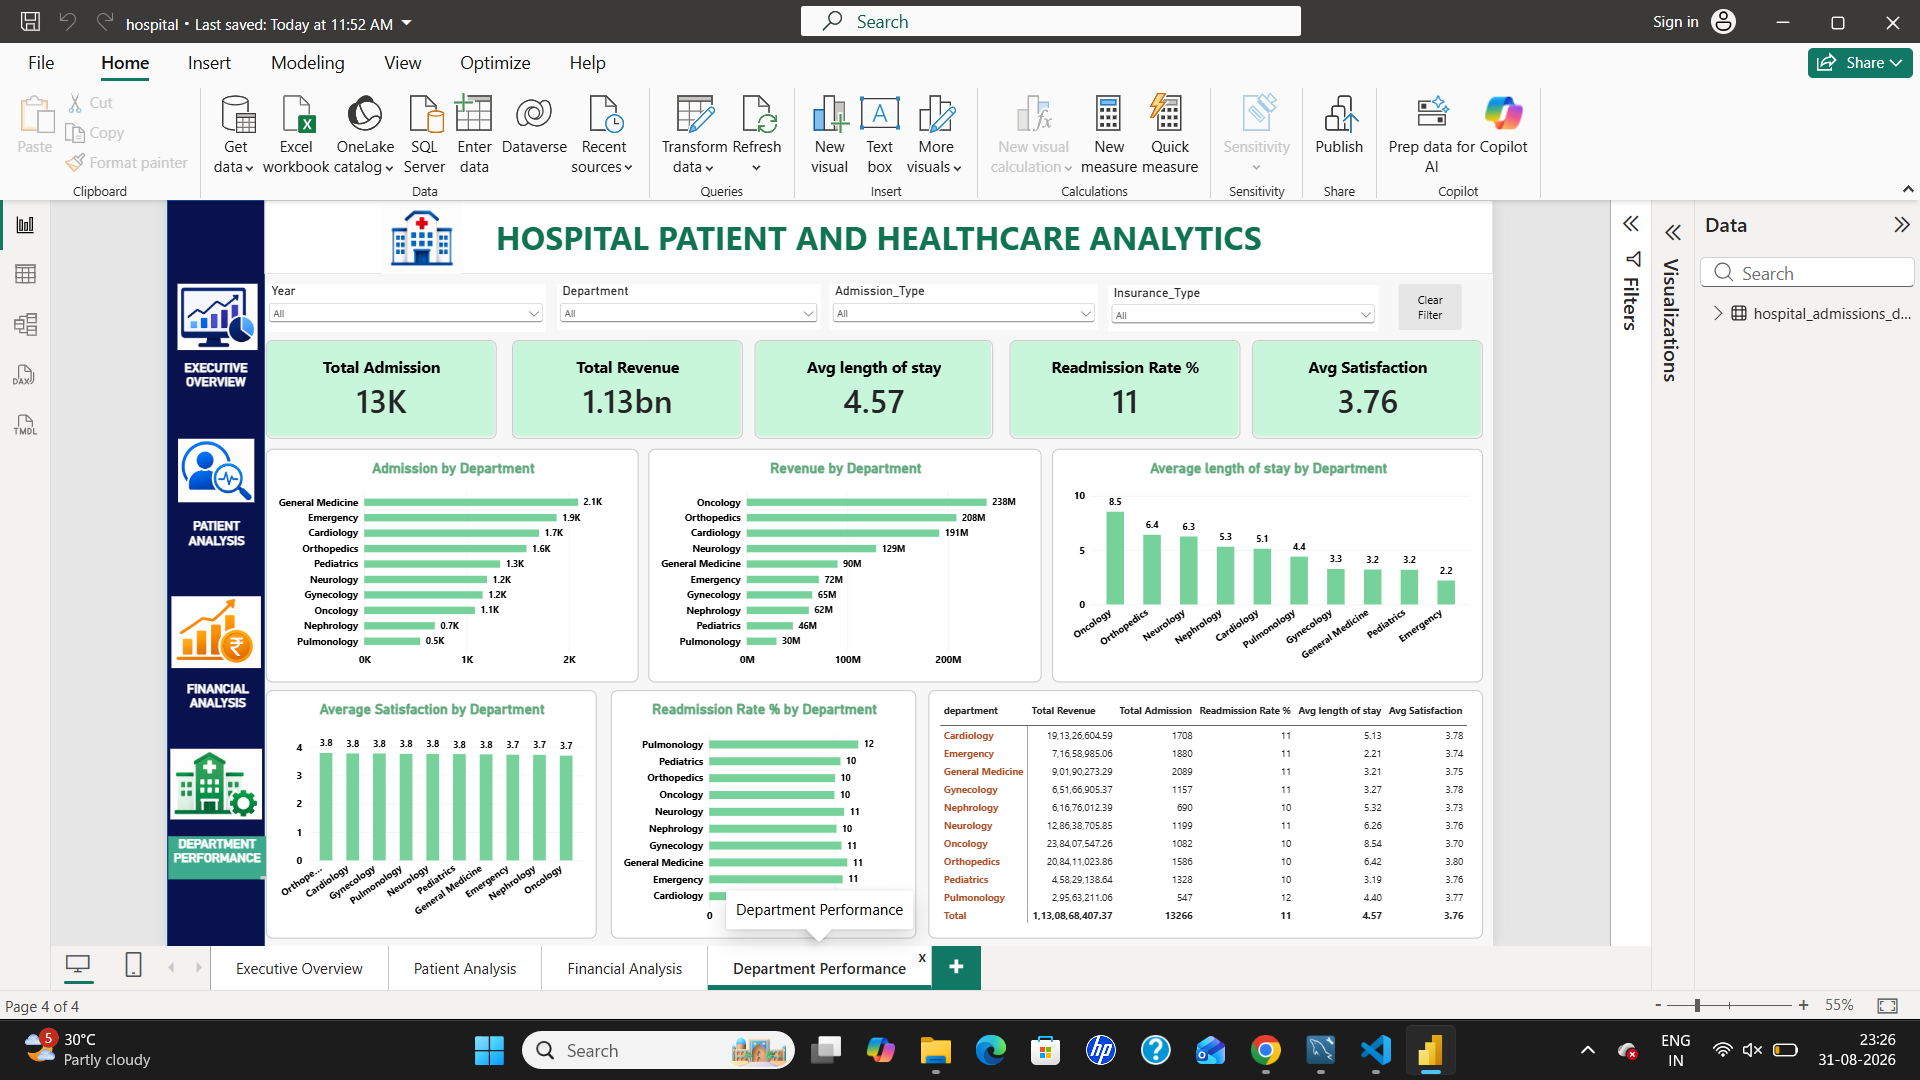

What the dashboard file says about the page in this screenshot:
{"tool":"powerbi","page":{"name":"Department Performance","canvas":[1920,1080],"ordinal":3},"visuals":[{"type":"shape","box":[0,0,141.9,1081],"z":0},{"type":"shape","box":[141.2,0,1778.9,106.8],"z":1000},{"type":"slicer","fields":{"Values":["hospital_admissions_data.admission_date.Variation.Date Hierarchy.Year"]},"box":[142.3,121.2,405.8,69.2],"z":2000},{"type":"slicer","fields":{"Values":["hospital_admissions_data.department"]},"box":[564.6,121.2,381.8,67],"z":3000},{"type":"slicer","fields":{"Values":["hospital_admissions_data.admission_type"]},"box":[959.1,121.2,389.1,67],"z":4000},{"type":"slicer","fields":{"Values":["hospital_admissions_data.insurance_type"]},"box":[1362.7,123.1,390.9,67],"z":5000},{"type":"cardVisual","fields":{"Data":["hospital_admissions_data.Total Admission"]},"box":[143,202.7,334.8,143],"z":6000},{"type":"cardVisual","fields":{"Data":["hospital_admissions_data.Total Revenue"]},"box":[499.5,202.7,334.8,143],"z":7000},{"type":"cardVisual","fields":{"Data":["hospital_admissions_data.Avg length of stay"]},"box":[850.5,202.7,345.6,143],"z":8000},{"type":"cardVisual","fields":{"Data":["hospital_admissions_data.Readmission Rate %"]},"box":[1219.7,202.7,334.8,143],"z":9000},{"type":"cardVisual","fields":{"Data":["hospital_admissions_data.Avg Satisfaction"]},"box":[1570.8,202.7,334.8,143],"z":10000},{"type":"clusteredBarChart","title":" Admission by Department","fields":{"Category":["hospital_admissions_data.department"],"Y":["hospital_admissions_data.Total Admission"]},"box":[142.3,359.6,540.4,338.5],"z":11000},{"type":"clusteredBarChart","title":" Revenue by Department","fields":{"Category":["hospital_admissions_data.department"],"Y":["hospital_admissions_data.Total Revenue"]},"box":[696.2,359.6,569.2,338.5],"z":12000},{"type":"clusteredBarChart","title":"Readmission Rate % by Department","fields":{"Category":["hospital_admissions_data.department"],"Y":["hospital_admissions_data.Readmission Rate %"]},"box":[642.4,709.4,442.3,359.6],"z":13000},{"type":"clusteredColumnChart","title":"Average length of stay by Department","fields":{"Category":["hospital_admissions_data.department"],"Y":["hospital_admissions_data.Avg length of stay"]},"box":[1281.2,360.1,624.3,338.4],"z":14000},{"type":"clusteredColumnChart","title":"Average Satisfaction by Department","fields":{"Category":["hospital_admissions_data.department"],"Y":["hospital_admissions_data.Avg Satisfaction"]},"box":[142.3,709.6,478.8,359.6],"z":15000},{"type":"pivotTable","fields":{"Rows":["hospital_admissions_data.department"],"Values":["hospital_admissions_data.Total Revenue","hospital_admissions_data.Total Admission","hospital_admissions_data.Readmission Rate %","hospital_admissions_data.Avg length of stay","hospital_admissions_data.Avg Satisfaction"]},"box":[1102.1,709.4,803.5,360.1],"z":16000},{"type":"textbox","box":[1057,921,697,159],"z":17000},{"type":"actionButton","box":[1782.5,121.2,92.3,67],"z":18000},{"type":"image","box":[260.6,5.4,217.2,101.3],"z":19000},{"type":"textbox","title":"EXECUTIVE OVERVIEW","box":[0,231.7,141.9,83.5],"z":20000},{"type":"textbox","title":"PATIENT ANALYSIS","box":[0,461.2,144,79.3],"z":21000},{"type":"textbox","title":"FINANCIAL ANALYSIS","box":[2.1,697,144,98.1],"z":22000},{"type":"textbox","title":"DEPARTMENT PERFORMANCE","box":[2.1,920.3,141.9,62.6],"z":23000},{"type":"image","box":[0,121,146.1,96],"z":24000},{"type":"image","box":[0,346.4,141.9,91.8],"z":25000},{"type":"image","box":[0,573.9,141.9,104.3],"z":26000},{"type":"image","box":[0,795.1,141.9,102.3],"z":27000}]}

Visuals, with their boxes on the page's 1920x1080 design canvas (x1, y1, x2, y2). These are canvas units, not pixel positions in the 1920x1080 screenshot, which may show the page scaled, cropped or inside an application window:
shape: 0, 0, 142, 1081
shape: 141, 0, 1920, 107
slicer - hospital_admissions_data.admission_date.Variation.Date Hierarchy.Year: 142, 121, 548, 190
slicer - hospital_admissions_data.department: 565, 121, 946, 188
slicer - hospital_admissions_data.admission_type: 959, 121, 1348, 188
slicer - hospital_admissions_data.insurance_type: 1363, 123, 1754, 190
cardVisual - hospital_admissions_data.Total Admission: 143, 203, 478, 346
cardVisual - hospital_admissions_data.Total Revenue: 500, 203, 834, 346
cardVisual - hospital_admissions_data.Avg length of stay: 850, 203, 1196, 346
cardVisual - hospital_admissions_data.Readmission Rate %: 1220, 203, 1554, 346
cardVisual - hospital_admissions_data.Avg Satisfaction: 1571, 203, 1906, 346
" Admission by Department" clusteredBarChart: 142, 360, 683, 698
" Revenue by Department" clusteredBarChart: 696, 360, 1265, 698
"Readmission Rate % by Department" clusteredBarChart: 642, 709, 1085, 1069
"Average length of stay by Department" clusteredColumnChart: 1281, 360, 1906, 698
"Average Satisfaction by Department" clusteredColumnChart: 142, 710, 621, 1069
pivotTable - hospital_admissions_data.department x hospital_admissions_data.Total Revenue: 1102, 709, 1906, 1070
textbox: 1057, 921, 1754, 1080
actionButton: 1782, 121, 1875, 188
image: 261, 5, 478, 107
"EXECUTIVE OVERVIEW" textbox: 0, 232, 142, 315
"PATIENT ANALYSIS" textbox: 0, 461, 144, 540
"FINANCIAL ANALYSIS" textbox: 2, 697, 146, 795
"DEPARTMENT PERFORMANCE" textbox: 2, 920, 144, 983
image: 0, 121, 146, 217
image: 0, 346, 142, 438
image: 0, 574, 142, 678
image: 0, 795, 142, 897
